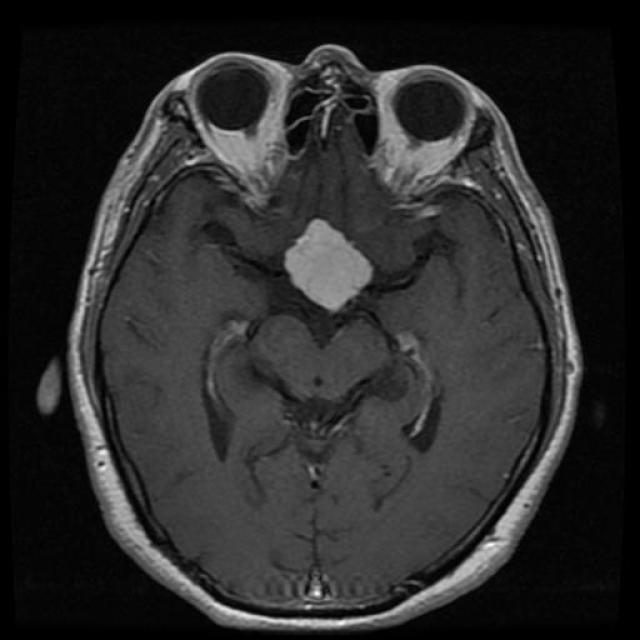meningioma: (282, 219, 374, 312)
